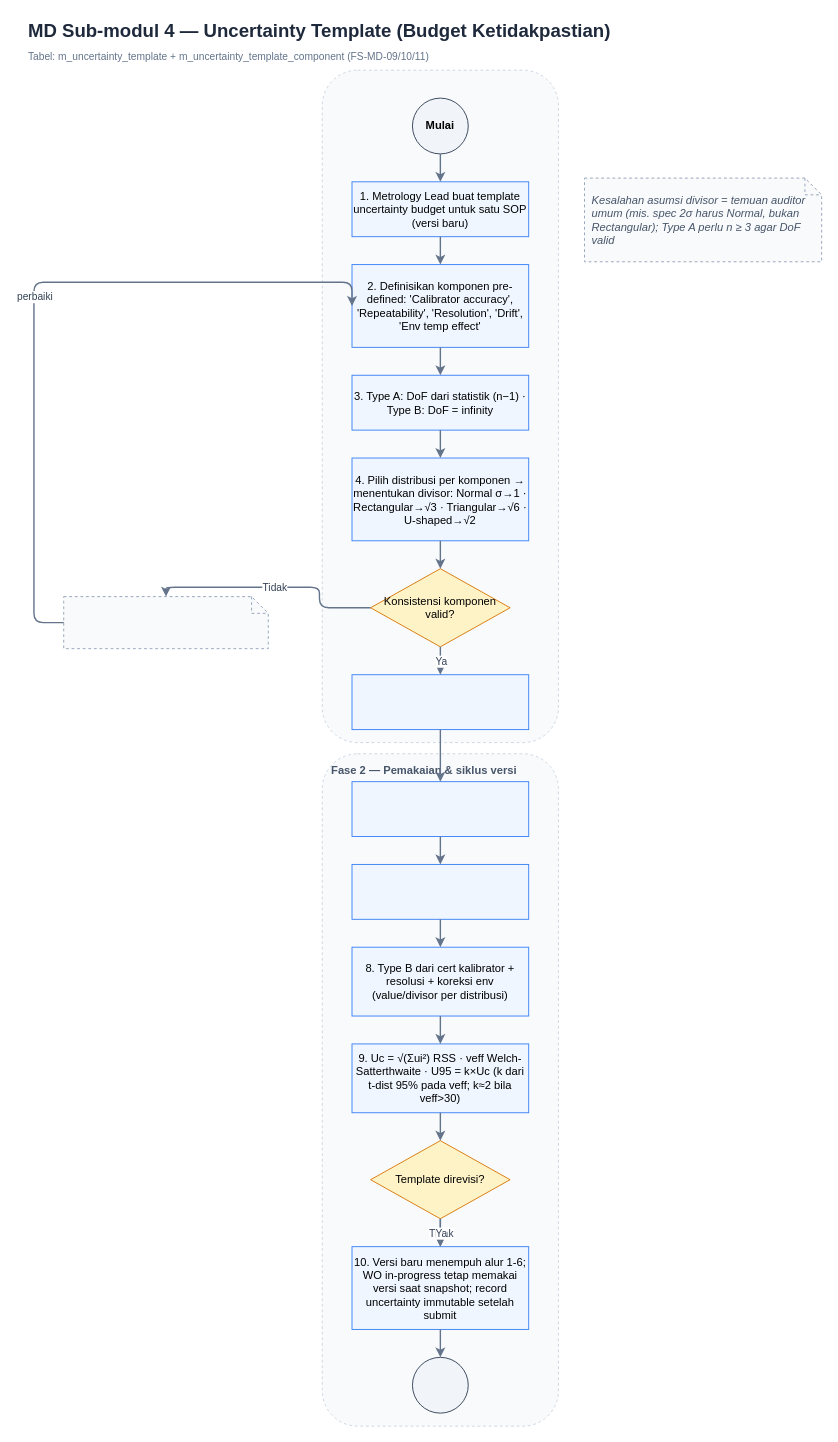
Some shapes in this 838 by 1442 pixel diagram are drawn without their labels. Here are the shapes that lost their labels. From the top down, the box of each, then its label:
(321, 69, 558, 743): Fase 1 — Pembuatan, validasi & approval
(63, 596, 268, 649): Komponen tidak konsisten → perbaiki
(351, 674, 529, 730): 5. Submit → review → approval e-sign → approved + effective_date
(351, 781, 529, 837): 6. Saat eksekusi WO: template men-seed syn_wo_uncertainty per WO
(351, 864, 529, 919): 7. Type A dihitung dari statistik pembacaan (mean, std_dev, u = std_dev/√n)
(412, 1356, 468, 1413): Selesai
